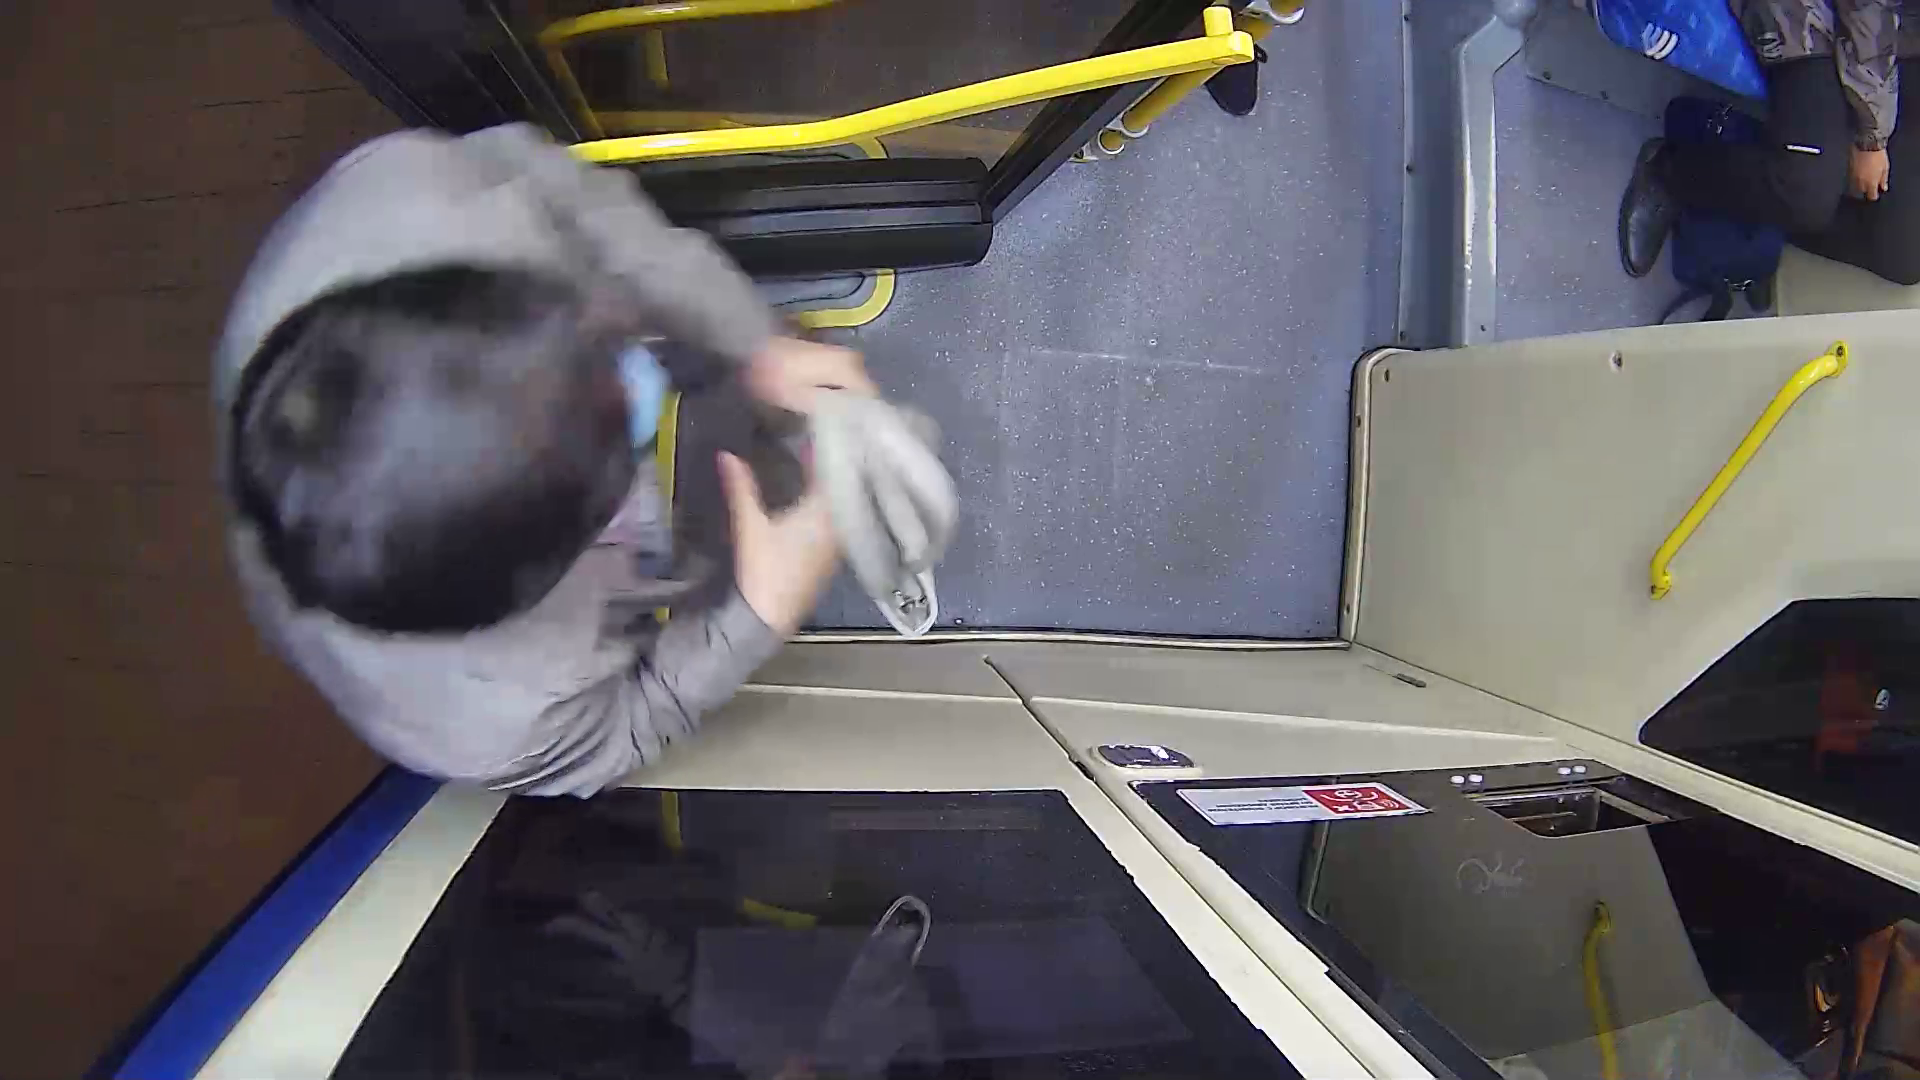person: (205, 146, 1036, 814)
